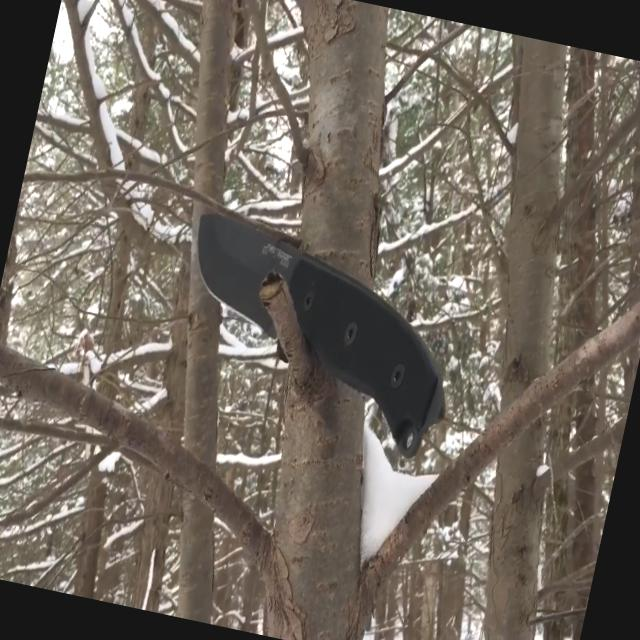knife: (160, 197, 388, 395)
